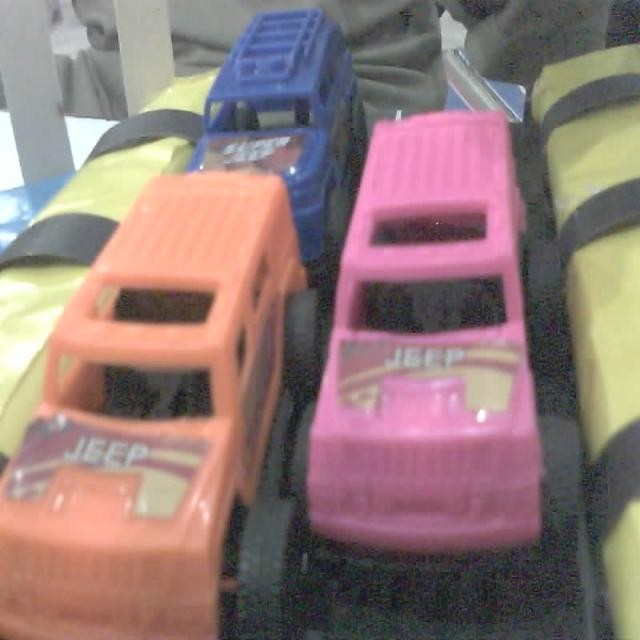ThreeCar: (2, 175, 323, 640), (299, 105, 553, 593), (173, 2, 369, 254)
